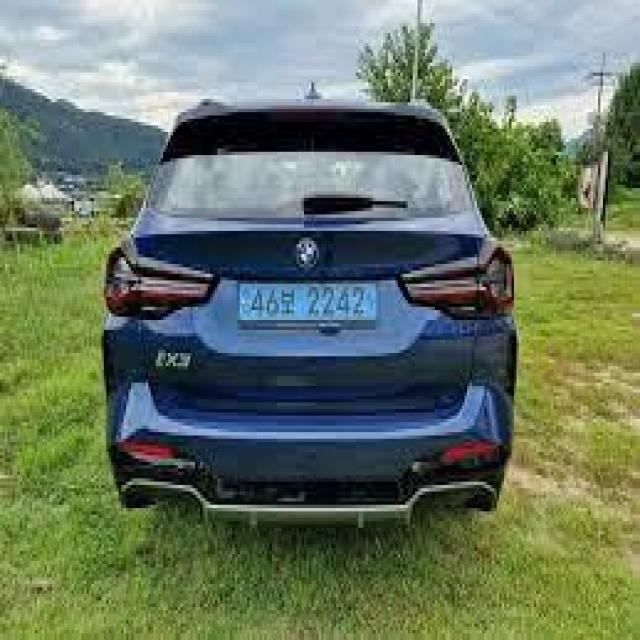EV_plate: (237, 275, 383, 334)
car: (100, 77, 516, 543)
